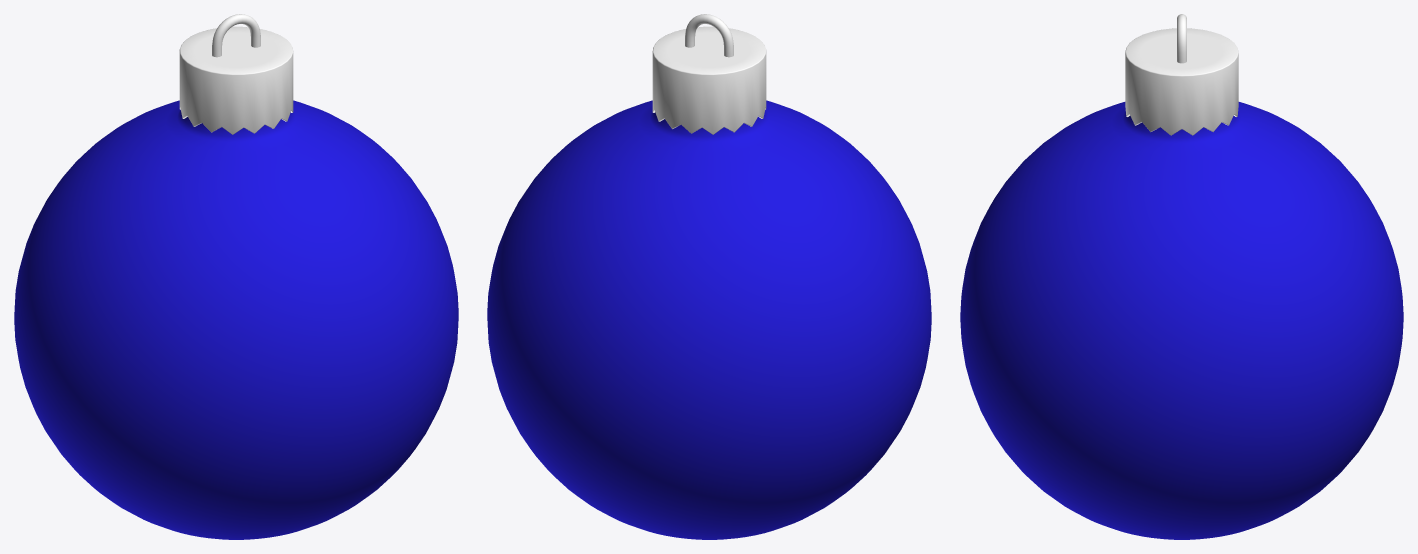
The model's file is blue_ball2.glb.
3 renders of one model, left to right at view 1: azimuth 30°, elevation 25°; view 2: azimuth 150°, elevation 25°; view 3: azimuth 270°, elevation 25°, orthographic.
Visible parts, largest first — view 1: Object_7.004; view 2: Object_7.004; view 3: Object_7.004.
Part boxes in pixels (bbox=[...]): Object_7.004: bbox=[14, 14, 458, 539]; Object_7.004: bbox=[487, 14, 931, 539]; Object_7.004: bbox=[960, 14, 1403, 539].
Size of the model in its own units: 0.0636 by 0.0797 by 0.0636.
